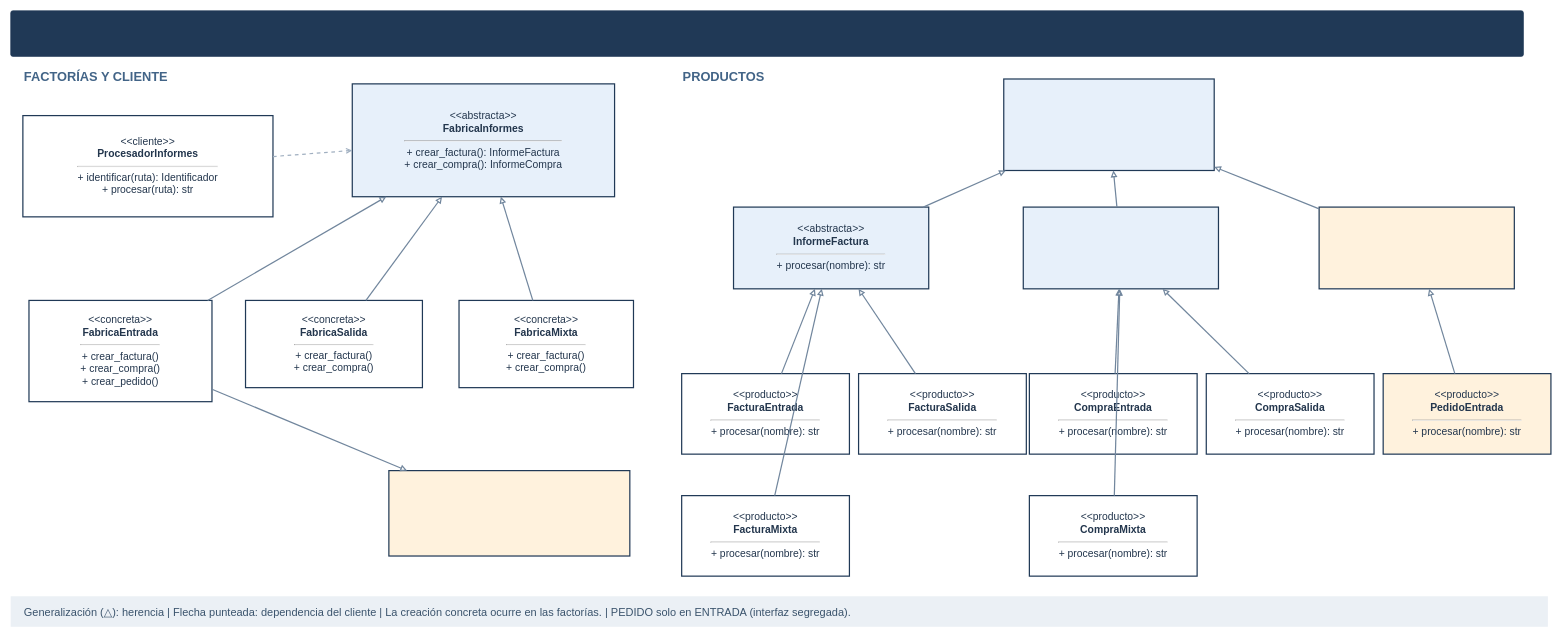
The diagram is 1565 pixels wide and 637 high, and some of its shapes have lost their labels. The shapes that lost their labels are listed below. From the top down, each one's box as (x1, y1, x2, y2) in pixels, then its label:
(10, 10, 1523, 56): V3 | Nuevo tipo PEDIDO en ENTRADA
(1003, 78, 1215, 171): <<abstracta>> Informe + procesar(nombre): str
(1022, 206, 1219, 289): <<abstracta>> InformeCompra + procesar(nombre): str
(1318, 206, 1515, 289): <<abstracta>> InformePedido + procesar(nombre): str
(388, 470, 630, 556): <<abstracta: capacidad>> FabricaPedidos + crear_pedido(): InformePedido
